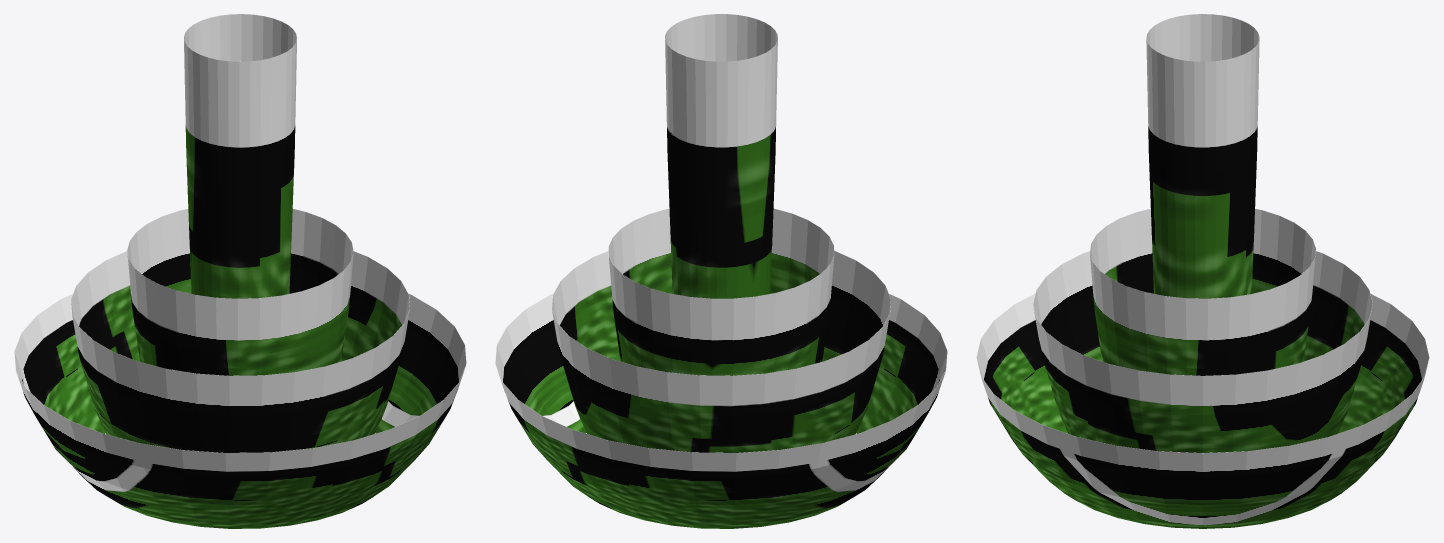
The model's file is aoe-impact-fx-leaves.fbx.
3 renders of one model, left to right at view 1: azimuth 30°, elevation 25°; view 2: azimuth 150°, elevation 25°; view 3: azimuth 270°, elevation 25°, orthographic.
Visible parts, largest first — view 1: Sphere, Sphere.001, aoe-fx, Sphere.002; view 2: Sphere, Sphere.001, aoe-fx, Sphere.002; view 3: Sphere, Sphere.001, aoe-fx, Sphere.002.
Part boxes in pixels (bbox=[...]): Sphere: bbox=[14, 293, 466, 528]; Sphere.001: bbox=[71, 251, 409, 452]; aoe-fx: bbox=[184, 14, 296, 298]; Sphere.002: bbox=[127, 209, 353, 375]; Sphere: bbox=[495, 293, 947, 528]; Sphere.001: bbox=[552, 250, 890, 452]; aoe-fx: bbox=[665, 14, 777, 298]; Sphere.002: bbox=[608, 208, 834, 375]; Sphere: bbox=[976, 293, 1429, 528]; Sphere.001: bbox=[1033, 251, 1372, 452]; aoe-fx: bbox=[1146, 14, 1259, 298]; Sphere.002: bbox=[1090, 208, 1315, 375].
Size of the model in its own units: 193 by 200 by 193.
Materials: 1 (1 with a texture image).
